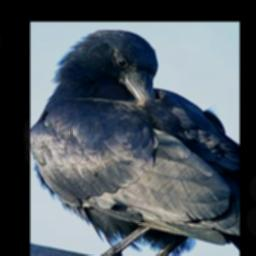Crow: (32, 29, 240, 256)
